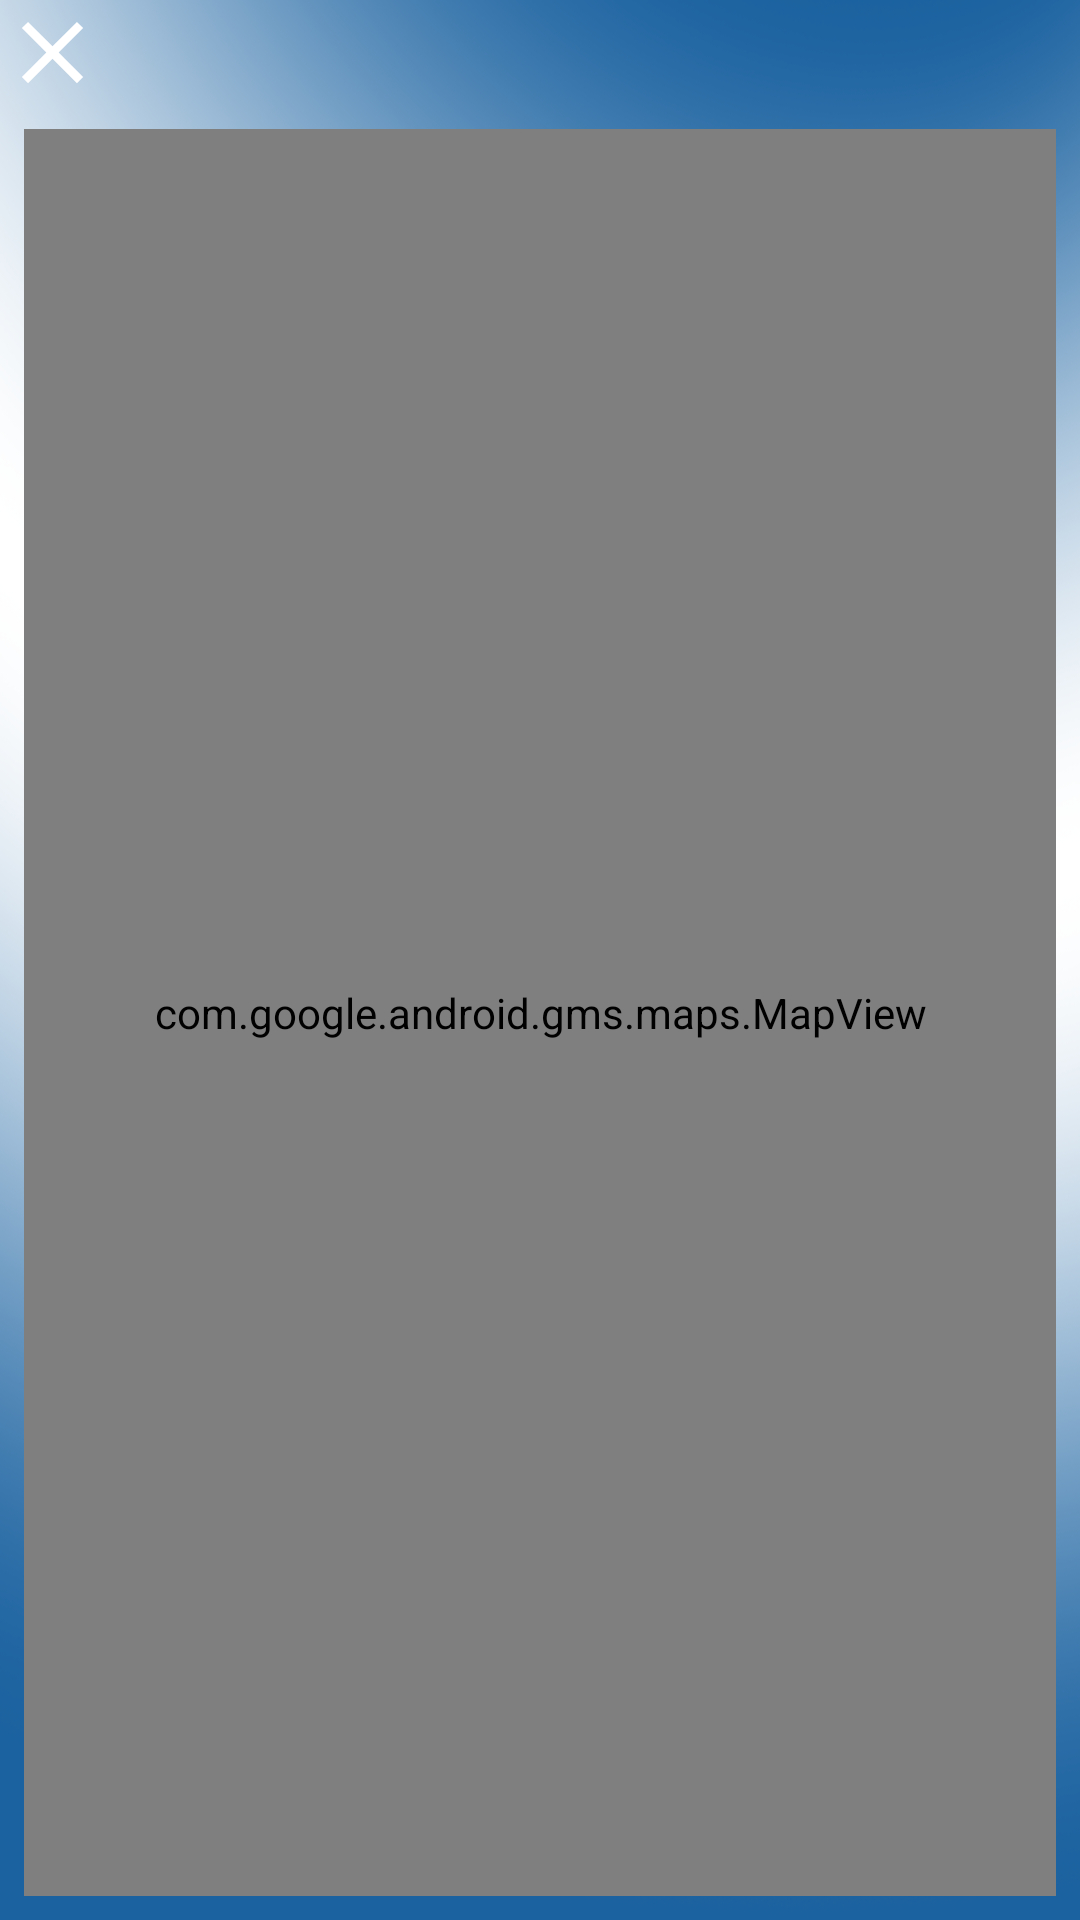

Where to tap for icons on this 1080px×1920px app screen, as (x=x, y=y):
frame close: (x=41, y=52)
